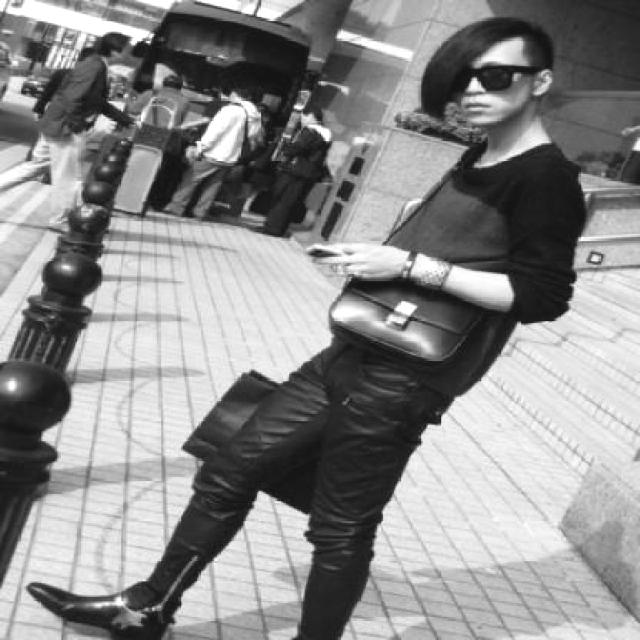face_nomask: (443, 37, 529, 146)
glasses: (441, 58, 521, 100)
hand_noglove: (312, 243, 405, 283)
head_nohelmet: (423, 9, 551, 65), (96, 23, 136, 63)
person: (135, 9, 568, 640), (23, 17, 111, 220), (202, 82, 268, 238), (140, 65, 185, 142)
shoes: (27, 574, 178, 640)
